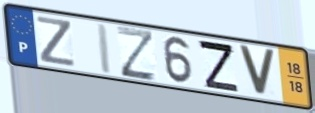6: (161, 34, 195, 86)
I: (95, 21, 114, 77)
V: (236, 43, 278, 99)
Z: (196, 38, 241, 94), (115, 25, 158, 83), (35, 14, 77, 69)
